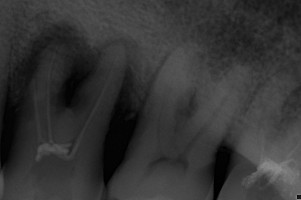Dental Caries: (18, 20, 141, 120)
Endo-Periodontal Lesion: (180, 86, 199, 117)
